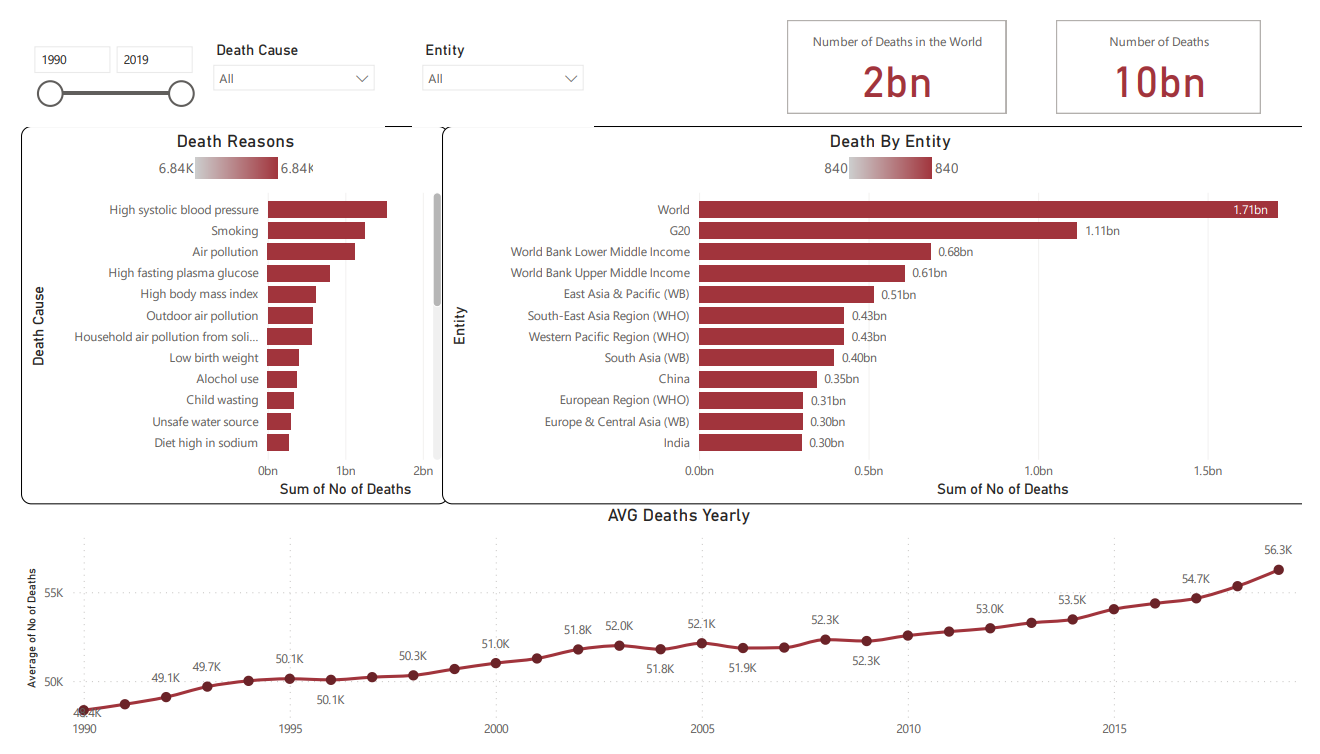

This screenshot's page, from the dashboard's own definition file:
{"tool":"powerbi","page":{"name":"Page 1","canvas":[1280,720],"ordinal":0},"visuals":[{"type":"clusteredBarChart","title":"Death Reasons","fields":{"Category":["death rate of countries and its causes.Death Cause"],"Y":["Sum(death rate of countries and its causes.No of Deaths)"]},"box":[0,108.2,415.9,368],"z":0},{"type":"clusteredBarChart","title":"Death By Entity","fields":{"Category":["death rate of countries and its causes.Entity"],"Y":["Sum(death rate of countries and its causes.No of Deaths)"]},"box":[409.7,108.2,870.7,368],"z":1000},{"type":"slicer","fields":{"Values":["death rate of countries and its causes.Year"]},"box":[0,20.4,177,87.5],"z":1001},{"type":"slicer","fields":{"Values":["death rate of countries and its causes.Death Cause"]},"box":[177,20.4,177,87.5],"z":1002},{"type":"slicer","fields":{"Values":["death rate of countries and its causes.Entity"]},"box":[380.3,20.4,177,87.5],"z":1003},{"type":"lineChart","title":"AVG Deaths Yearly ","fields":{"Category":["death rate of countries and its causes.Year"],"Y":["Avg(death rate of countries and its causes.No of Deaths)"]},"box":[0,476.2,1280.4,243.8],"z":1004},{"type":"cardVisual","fields":{"Data":["Sum(death rate of countries and its causes.No of Deaths)"]},"box":[740.2,0,223.7,101.2],"z":1005},{"type":"cardVisual","fields":{"Data":["Sum(death rate of countries and its causes.No of Deaths)"]},"box":[1001.8,0,209.1,101.2],"z":1006}]}

Visuals, with their boxes in screenshot pixels (x1, y1, x2, y2), scaled from the page's 1280x720 canvas onto the 1320x754 screenshot:
"Death Reasons" clusteredBarChart: 0, 113, 429, 499
"Death By Entity" clusteredBarChart: 423, 113, 1319, 499
slicer - death rate of countries and its causes.Year: 0, 21, 183, 113
slicer - death rate of countries and its causes.Death Cause: 183, 21, 365, 113
slicer - death rate of countries and its causes.Entity: 392, 21, 575, 113
"AVG Deaths Yearly " lineChart: 0, 499, 1319, 753
cardVisual - Sum(death rate of countries and its causes.No of Deaths): 763, 0, 994, 106
cardVisual - Sum(death rate of countries and its causes.No of Deaths): 1033, 0, 1249, 106
